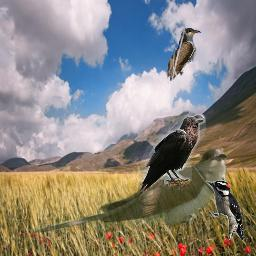Crow: (138, 114, 206, 192)
Cuckoo: (28, 146, 227, 237), (167, 28, 209, 81)
Woodpecker: (206, 180, 245, 240)
